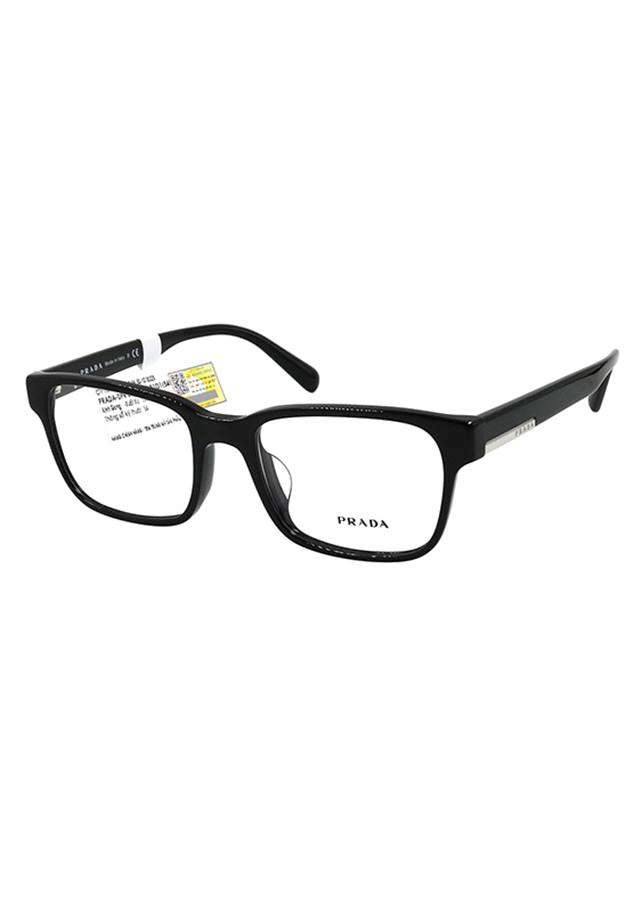Prada: (332, 512, 395, 531)
